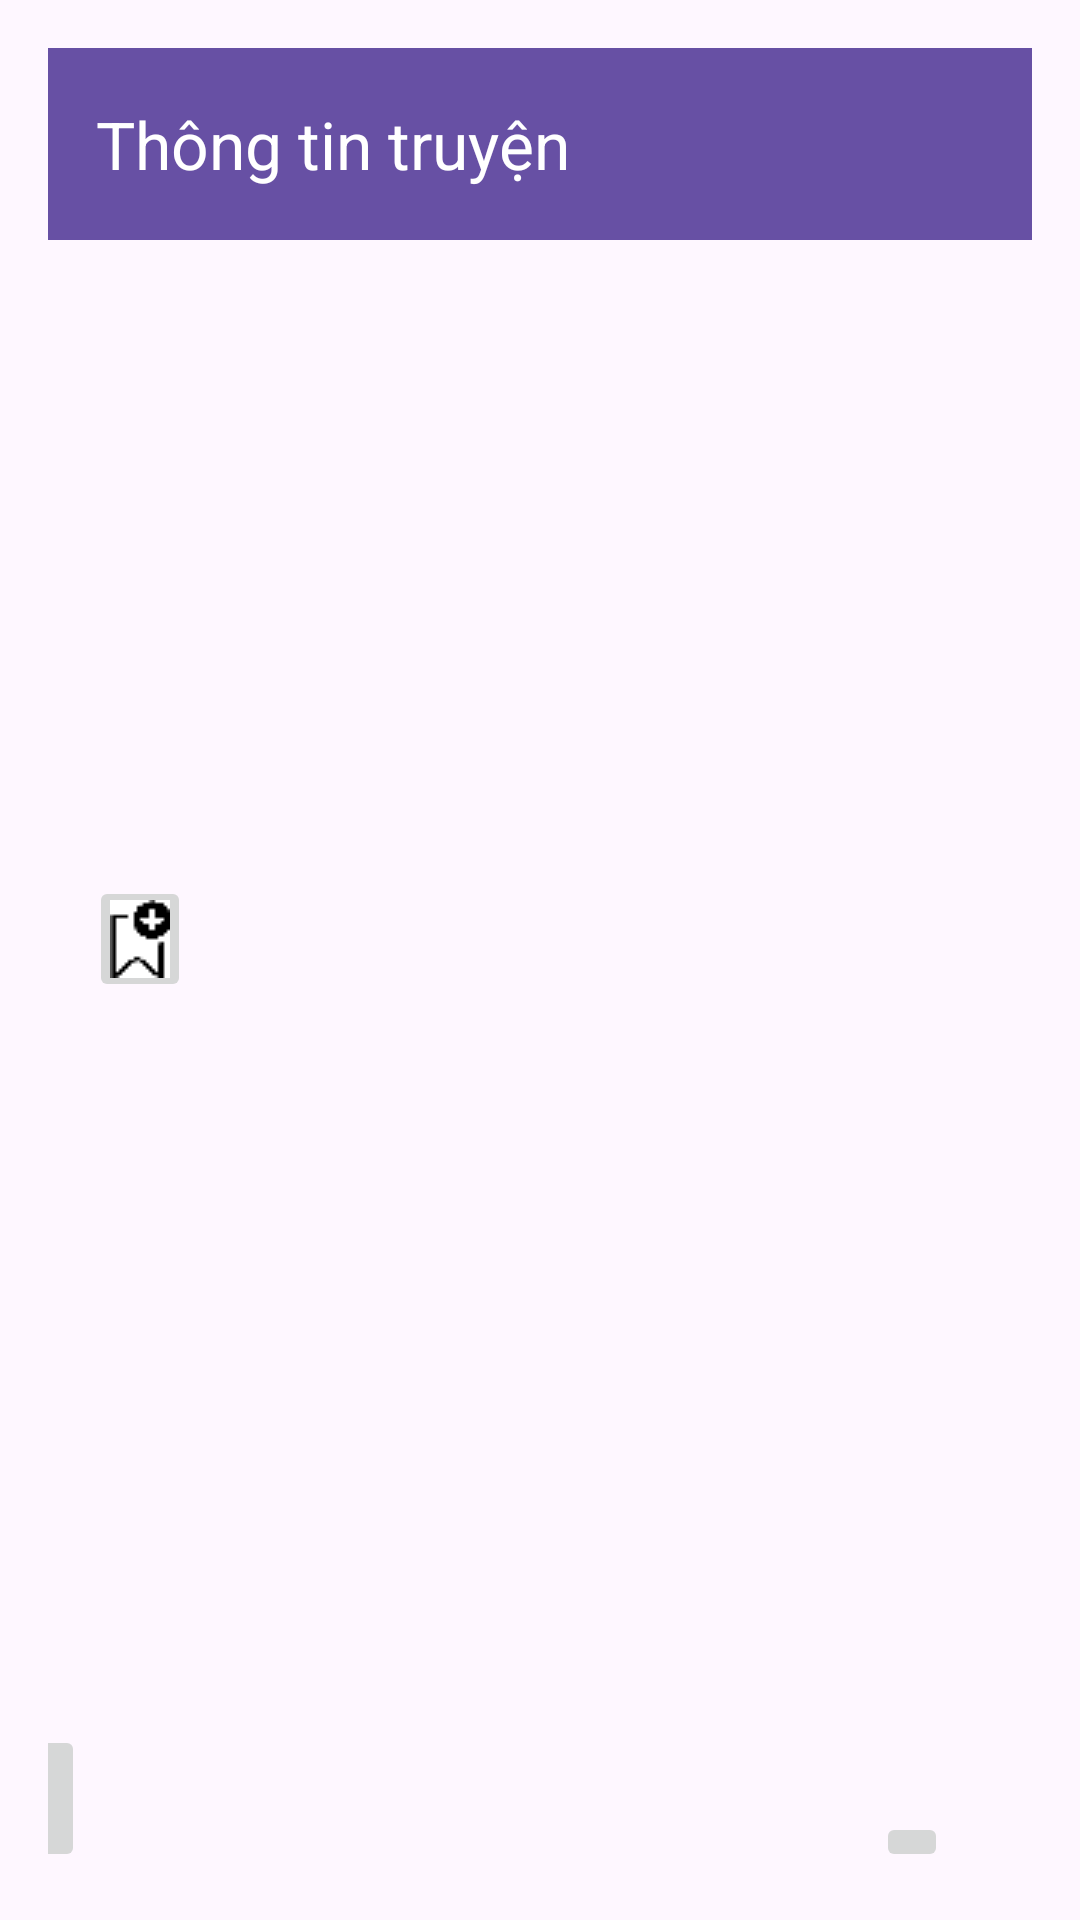

Named icons in this screenshot (1080px×1920px) and their centers, point (x, y):
Thêm vào tủ sách: point (140, 939)
